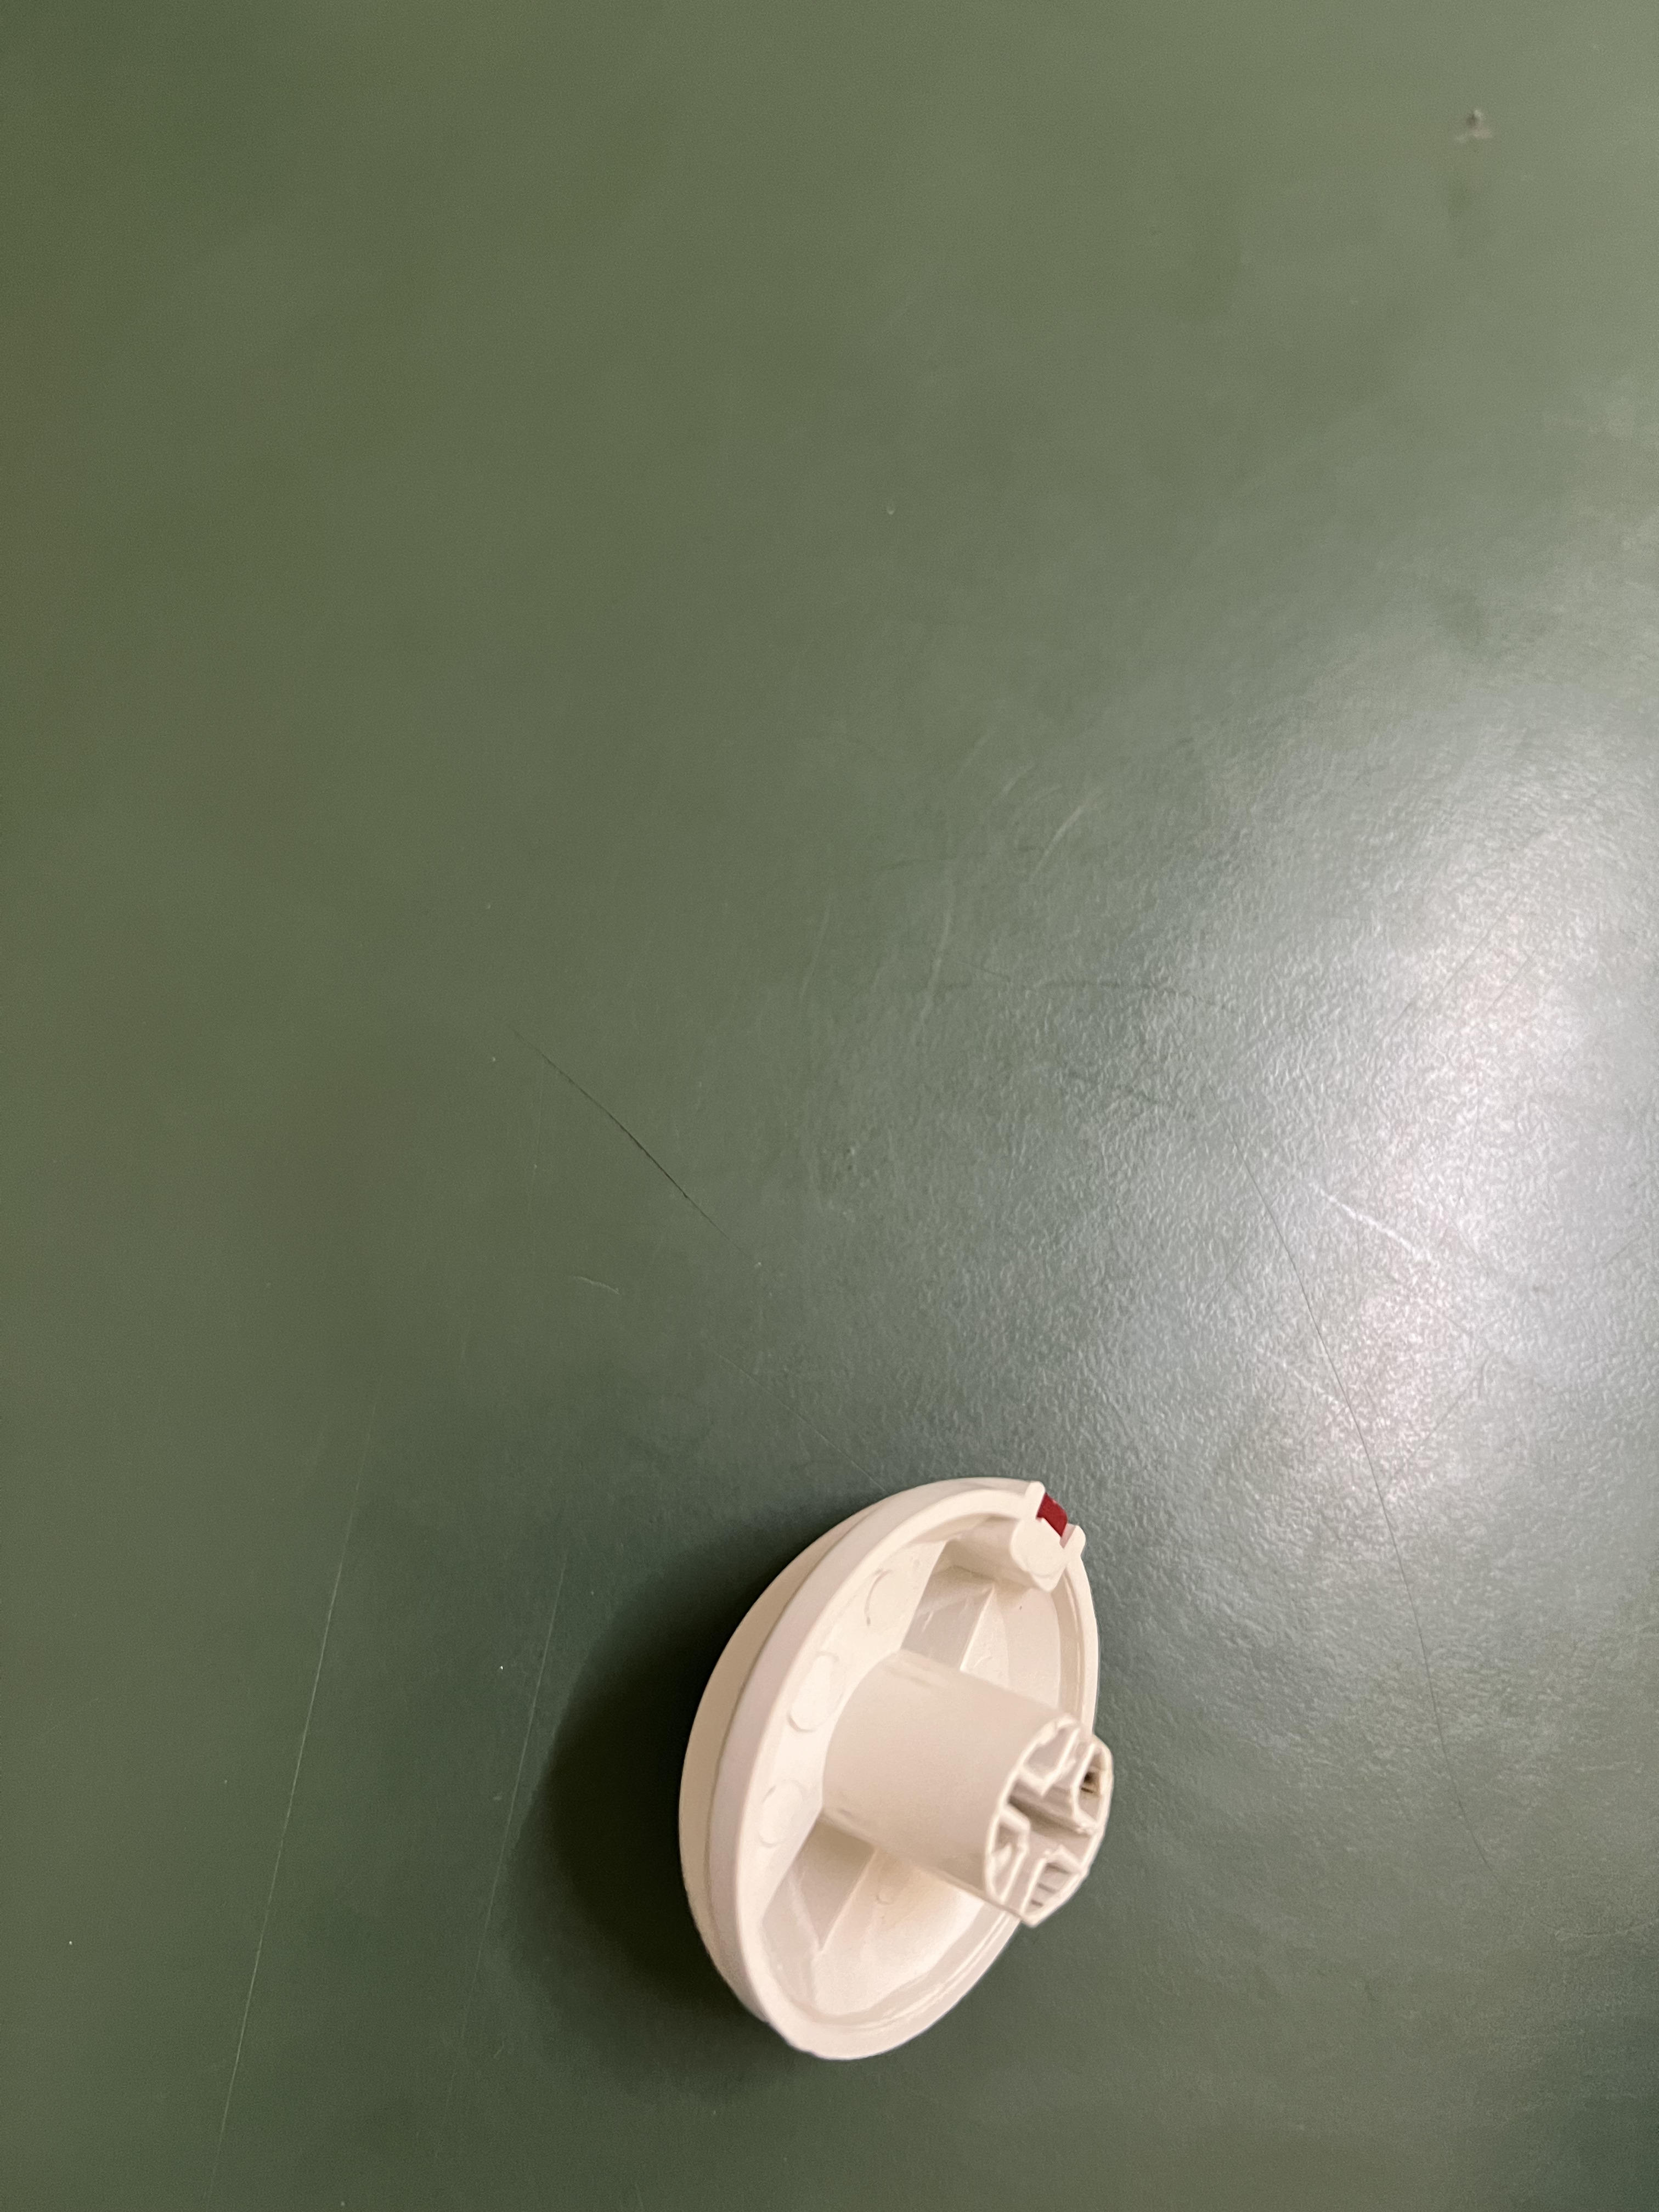regulator: (643, 1451, 1143, 2080)
